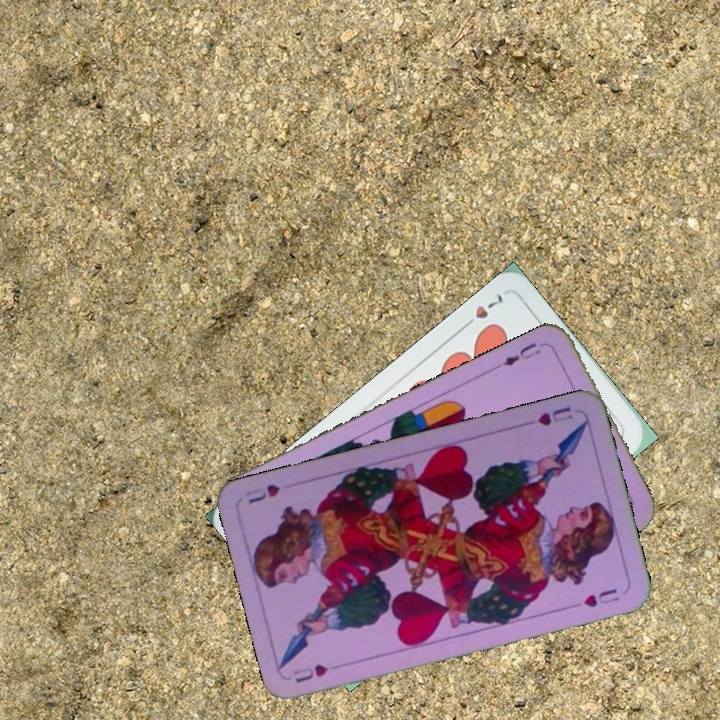EU: (499, 338, 543, 369)
H7: (458, 289, 505, 332)
HU: (289, 659, 346, 686), (534, 402, 576, 429)
